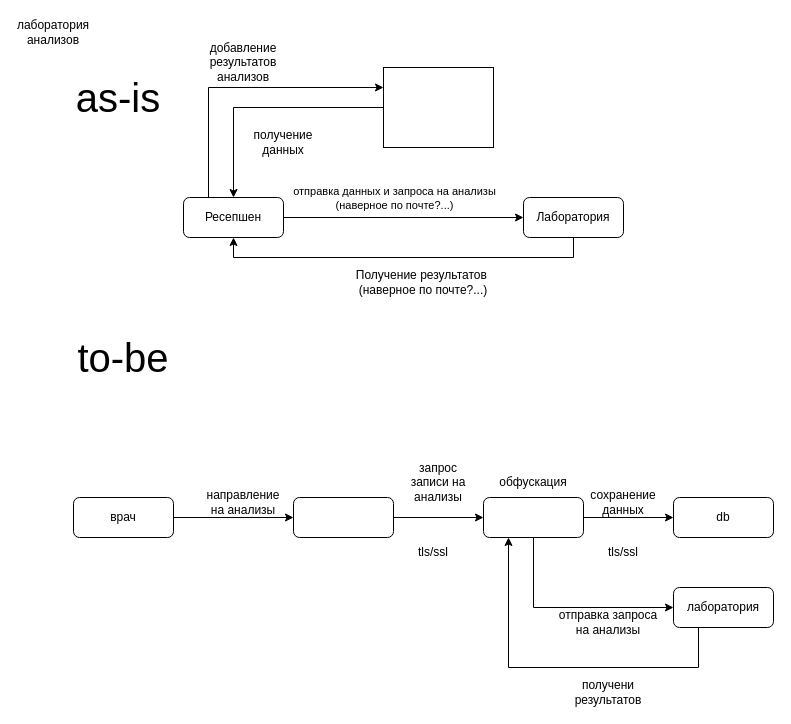
This 791x724 diagram has some shape labels left out. The centre of each missing label's shape, as x and y in pixels:
"backend" goes at pixel 533 517.
"Web-app" goes at pixel 343 517.
"Запись в медицинских exel-журнал и регистрационных exel'ках" goes at pixel 438 107.
